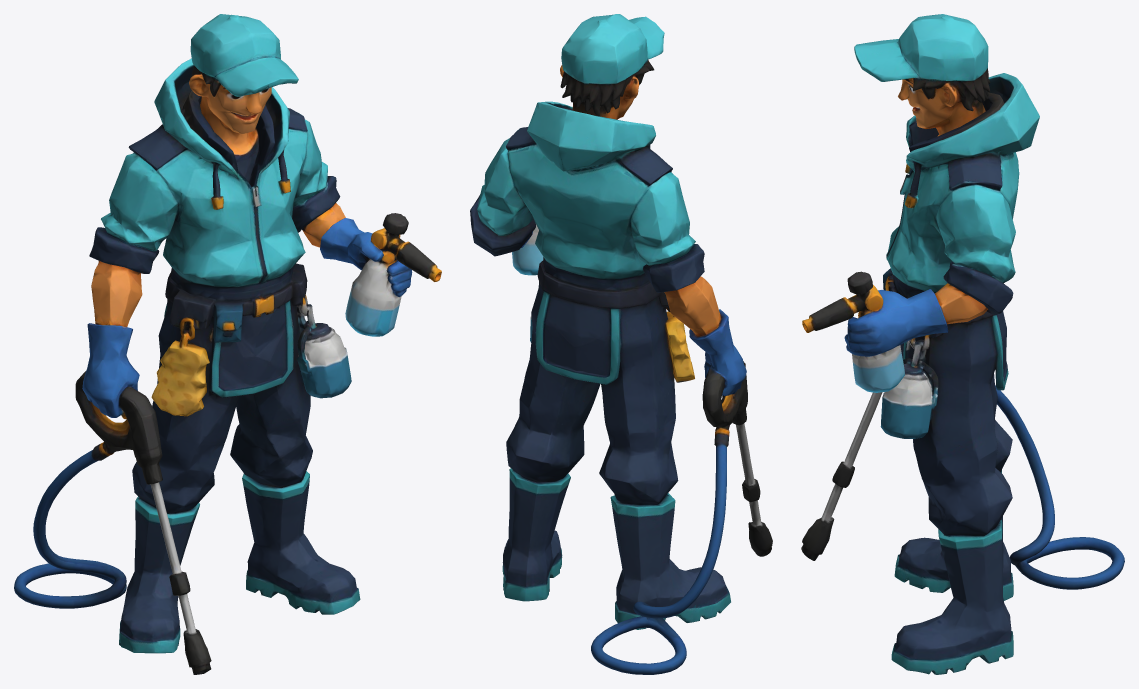
File: car_wash_character_1k_real.glb
3 renders of one model, left to right at view 1: azimuth 30°, elevation 25°; view 2: azimuth 150°, elevation 25°; view 3: azimuth 270°, elevation 25°, orthographic. The views are drawn at different scales.
Parts seen in each view (by area): view 1: tripo_node_c0e73b64-1685-477d-ad3c-bea894ba4267; view 2: tripo_node_c0e73b64-1685-477d-ad3c-bea894ba4267; view 3: tripo_node_c0e73b64-1685-477d-ad3c-bea894ba4267.
Part boxes in pixels (x1,y1,x2,y2): tripo_node_c0e73b64-1685-477d-ad3c-bea894ba4267: (14, 14, 441, 674); tripo_node_c0e73b64-1685-477d-ad3c-bea894ba4267: (470, 14, 772, 674); tripo_node_c0e73b64-1685-477d-ad3c-bea894ba4267: (801, 14, 1124, 674).
Bounding box in the file's own units: 0.5199 × 1 × 0.4839.
Materials: 1 (1 with a texture image).
